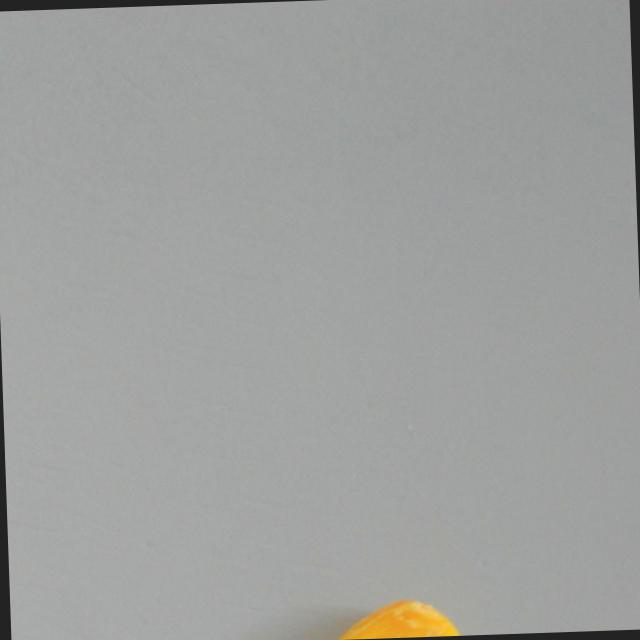pelicula: (324, 596, 464, 640)
